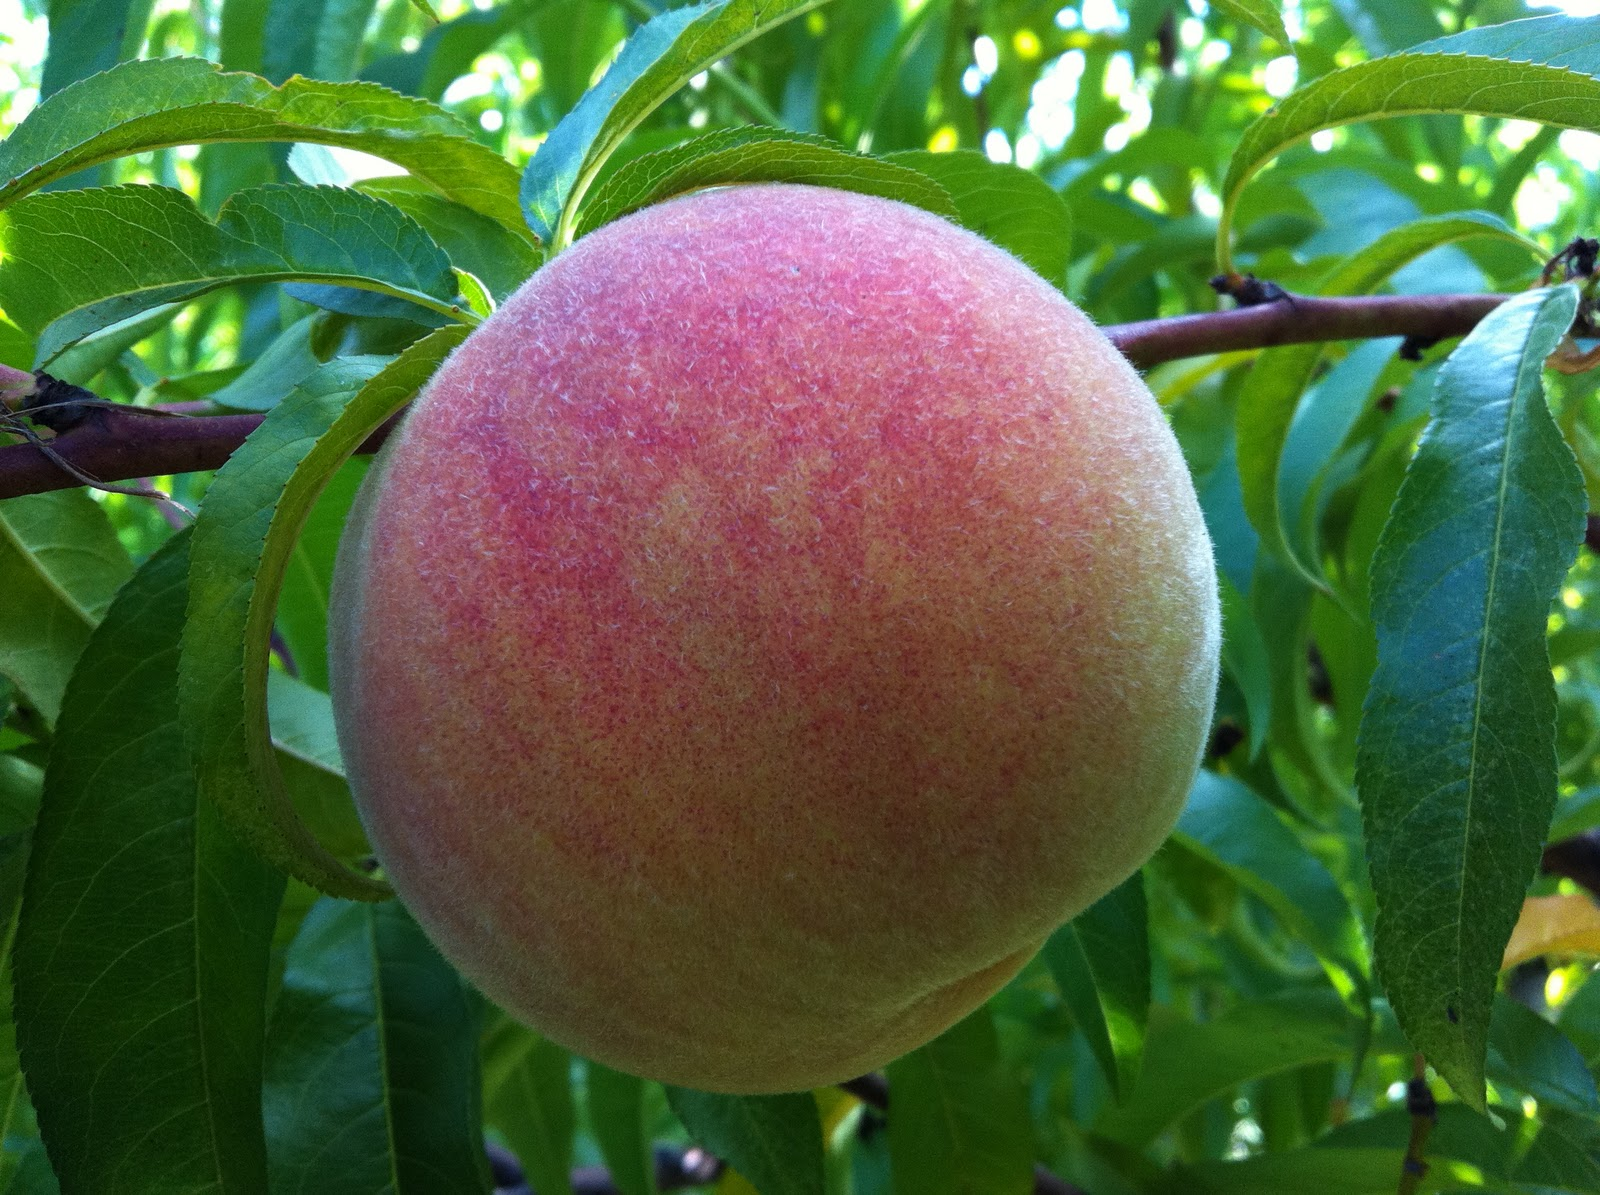peach: (333, 185, 1230, 1110)
